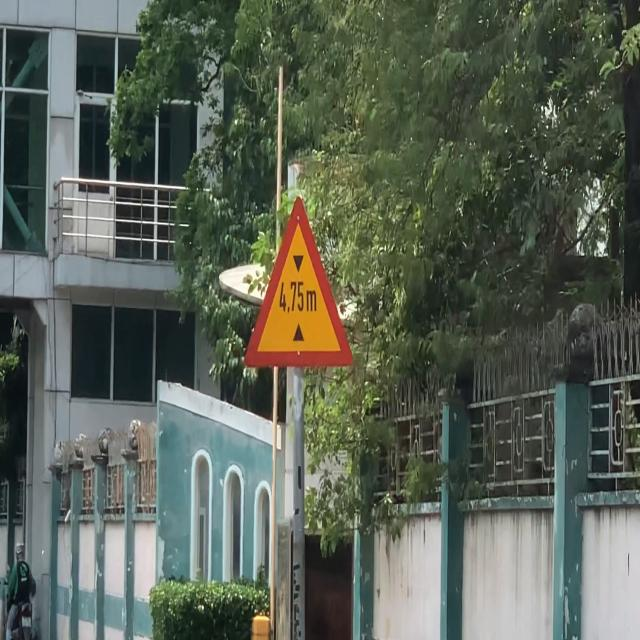Nguy hiem: (244, 195, 353, 368)
